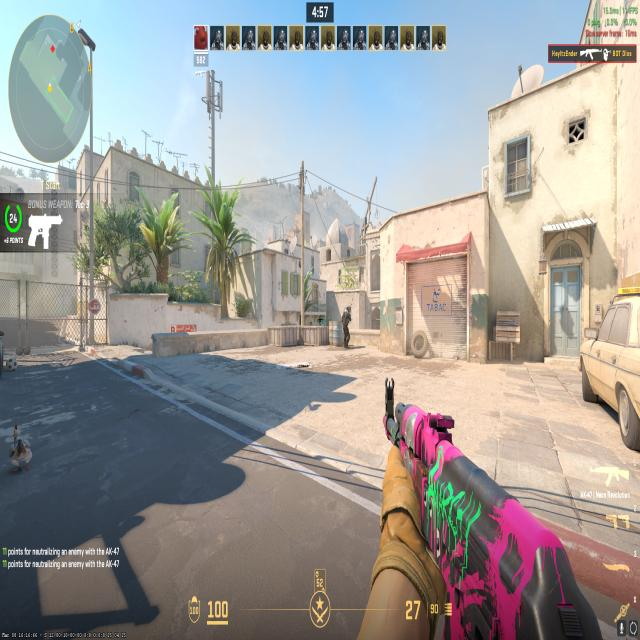ct: (341, 302, 354, 351)
